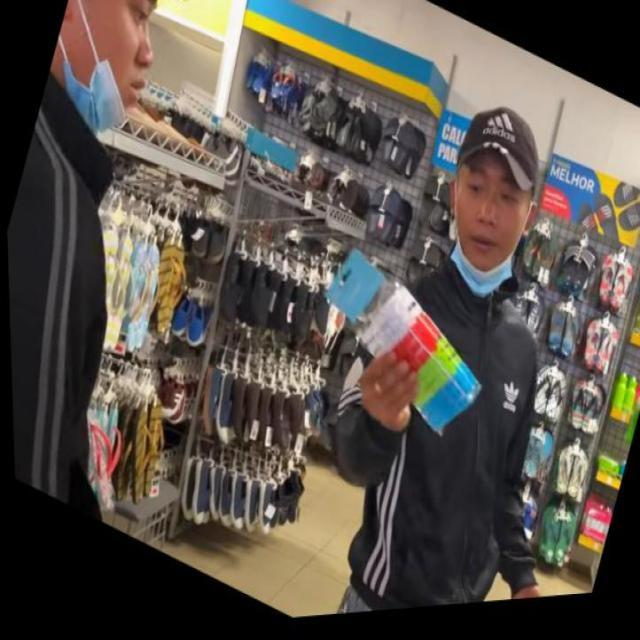hairnet: (54, 0, 176, 157), (434, 162, 534, 320)
